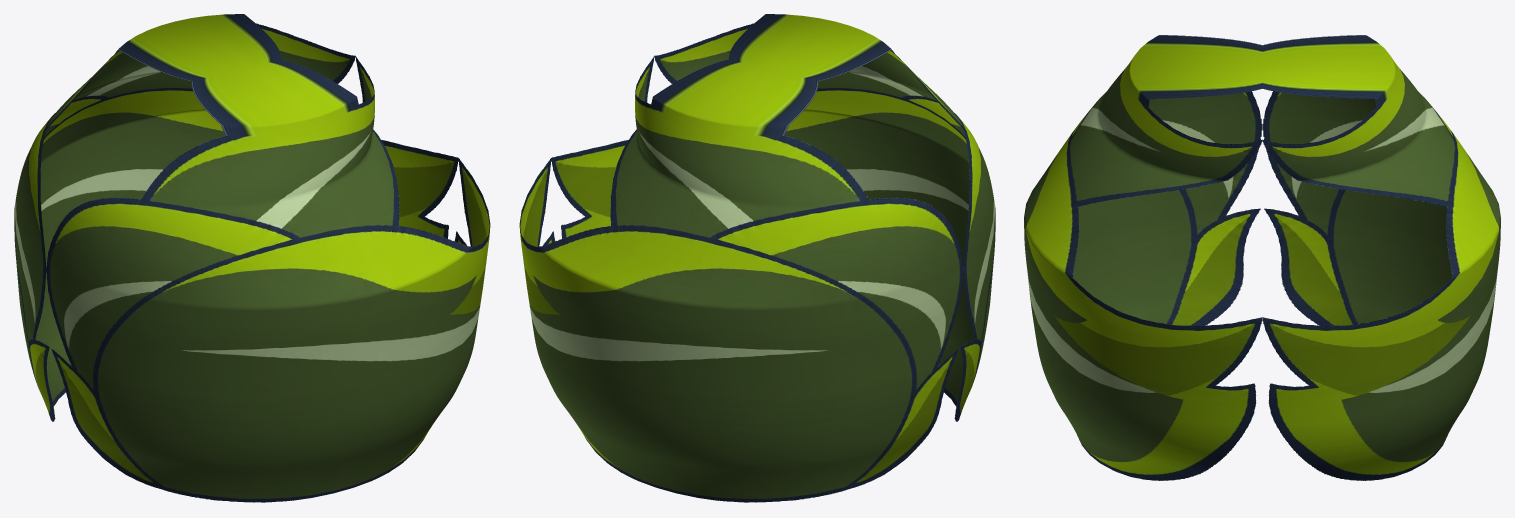
The model's file is broadleaf_clump.glb.
The picture shows the model from 3 angles, left to right: view 1: azimuth 30°, elevation 25°; view 2: azimuth 150°, elevation 25°; view 3: azimuth 270°, elevation 25°; orthographic projection.
Parts seen in each view (by area): view 1: broadleaf_clump; view 2: broadleaf_clump; view 3: broadleaf_clump.
Part boxes in pixels (x1=…): broadleaf_clump: x1=14, y1=14, x2=490, y2=502; broadleaf_clump: x1=519, y1=14, x2=995, y2=502; broadleaf_clump: x1=1024, y1=35, x2=1500, y2=480.
Bounding box in the file's own units: 1 × 0.825 × 1.
Materials: 1 (1 with a texture image).
